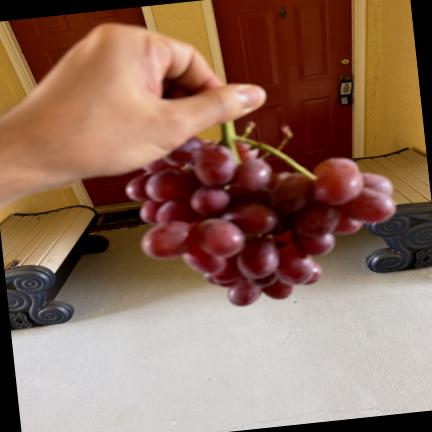grape_cluster: (126, 122, 396, 306)
